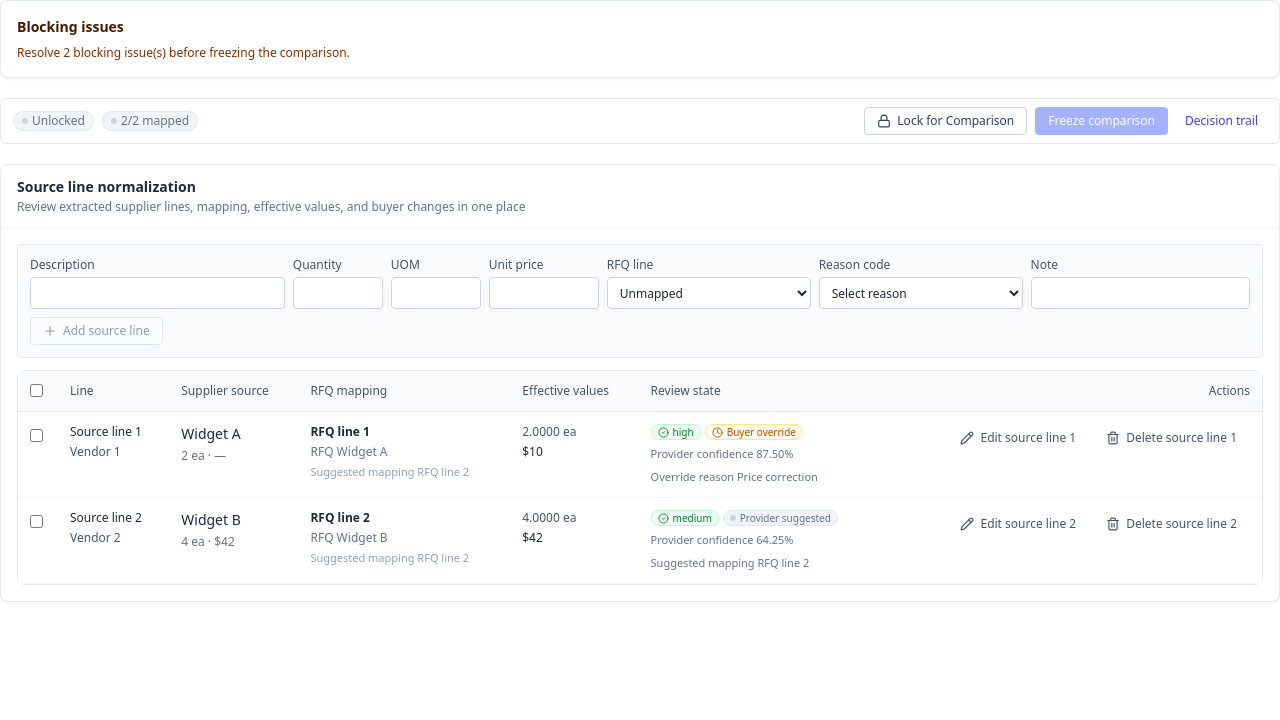
NormalizeQuotePage › selects and clears all source lines from the header checkbox
Click the checkbox named "select all source lines": (36,390) [30,384,43,397]
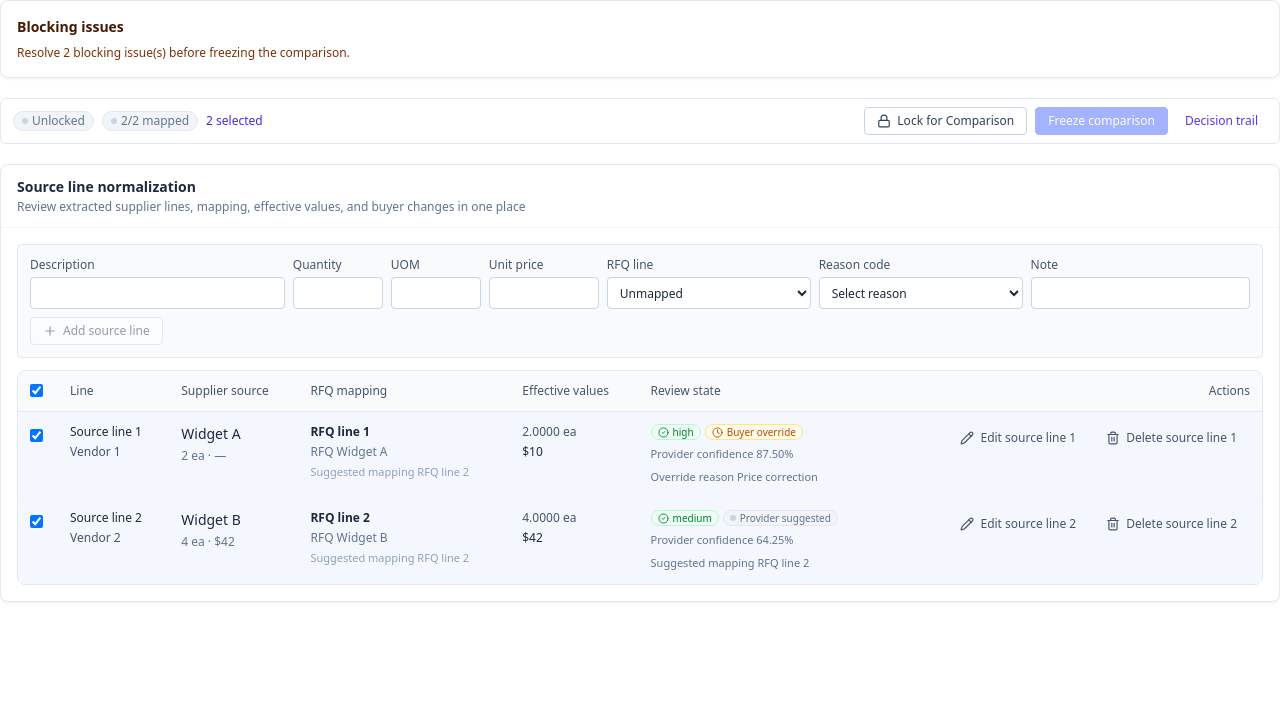
Result: the checkbox named "select source line 1" is checked at [30,429,43,442]
Result: the checkbox named "select source line 2" is checked at [30,515,43,528]
Click the checkbox named "select all source lines": (36,390) [30,384,43,397]
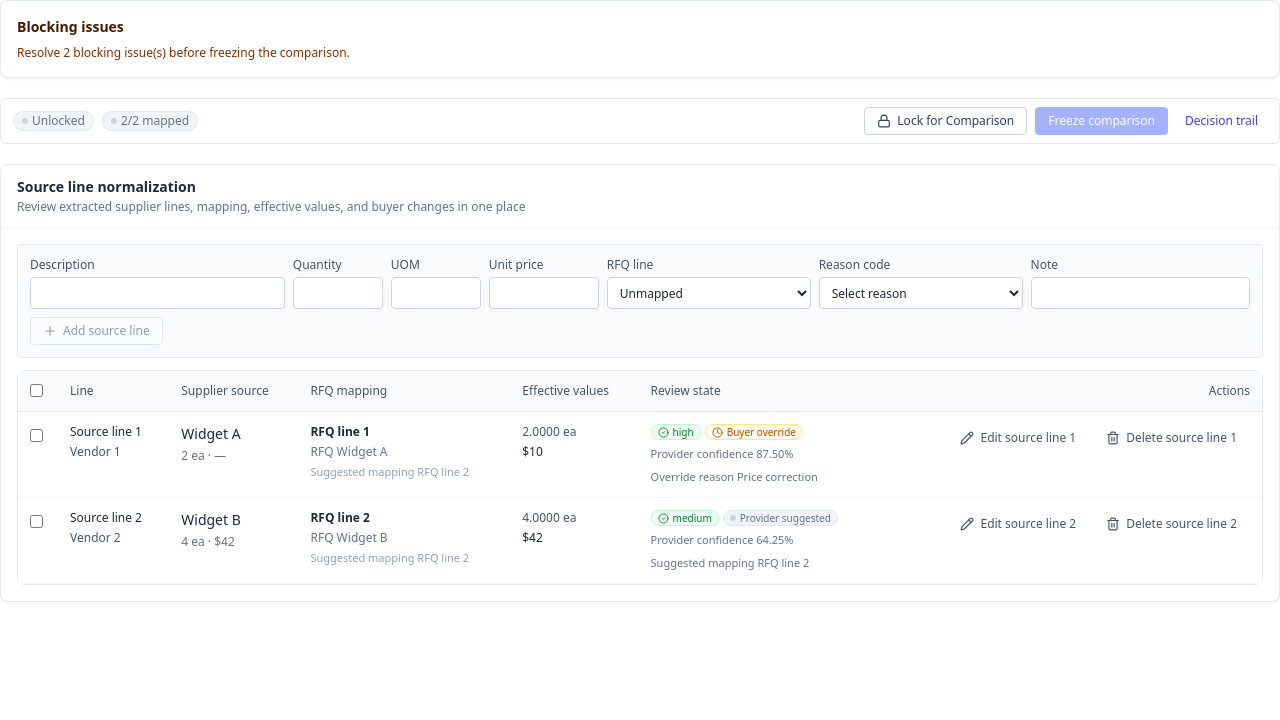
Result: the checkbox named "select source line 1" is not checked at [30,429,43,442]
Result: the checkbox named "select source line 2" is not checked at [30,515,43,528]
